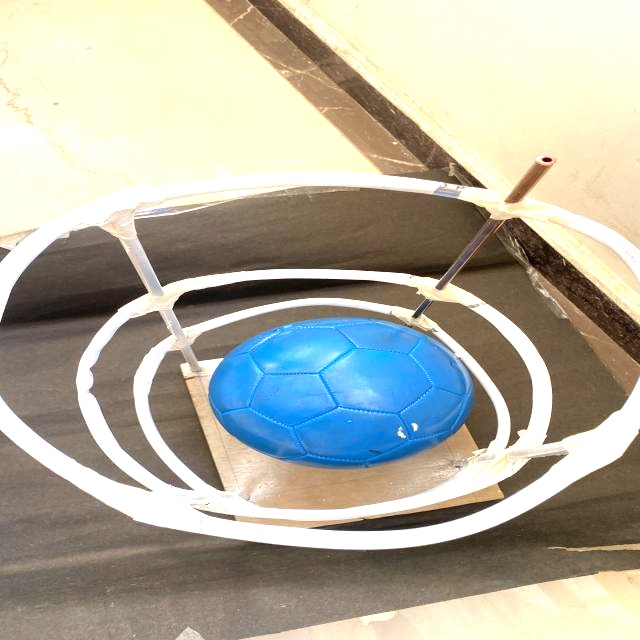blue_ball: (198, 313, 488, 466)
silo: (0, 172, 640, 576)
